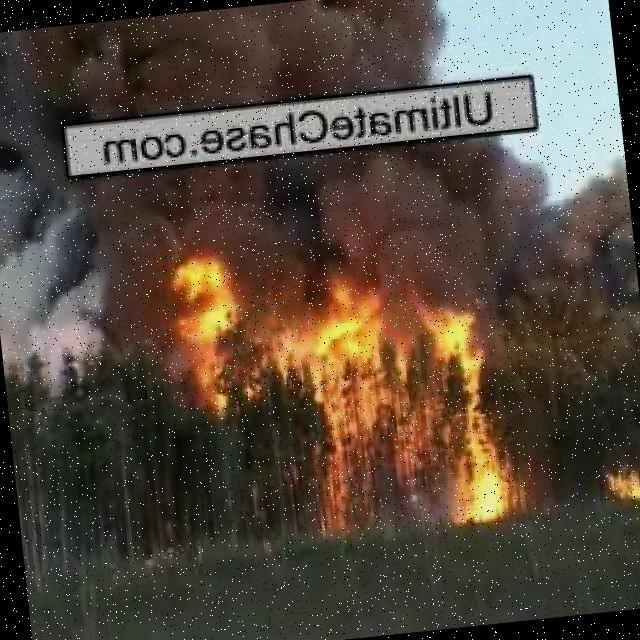Fire: (293, 285, 514, 541), (158, 239, 253, 418), (599, 454, 640, 502)
